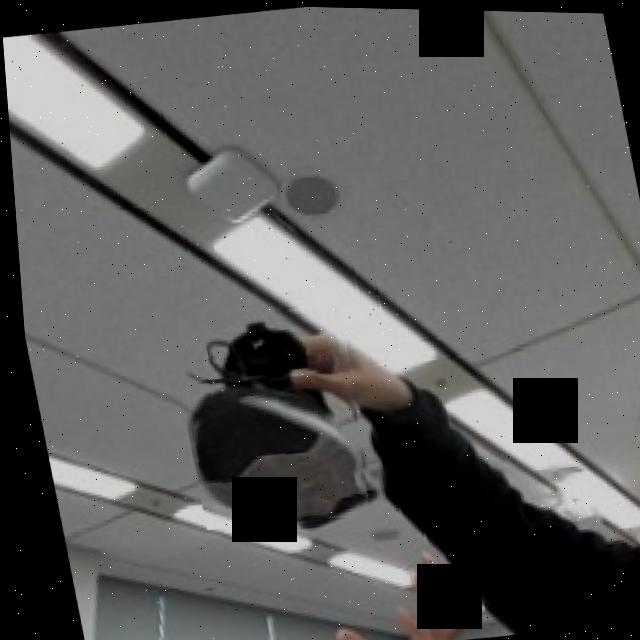shoe: (160, 297, 375, 533)
